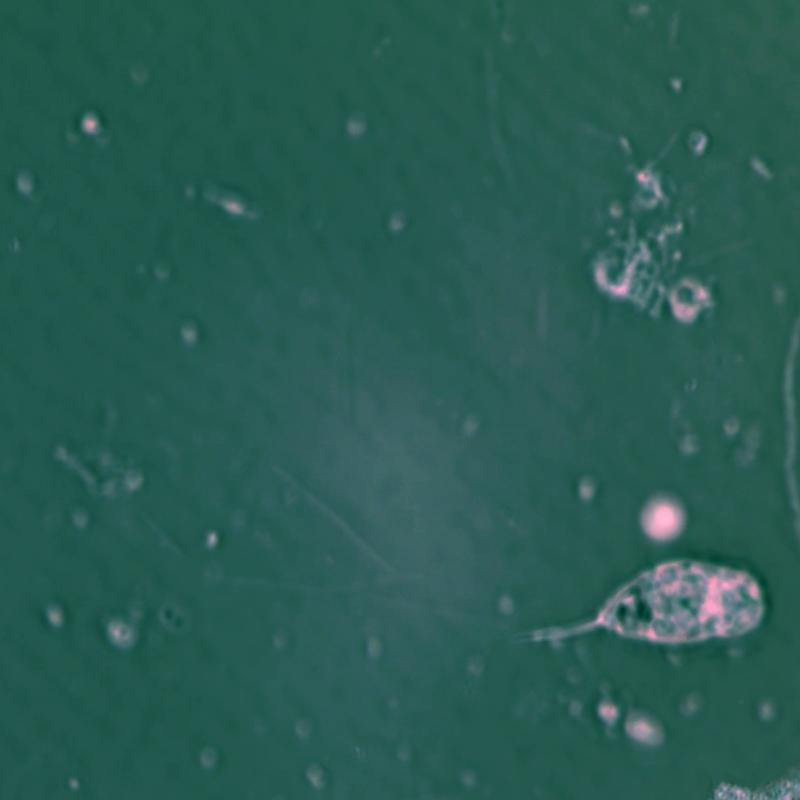depth:40: (502, 514, 792, 683)
